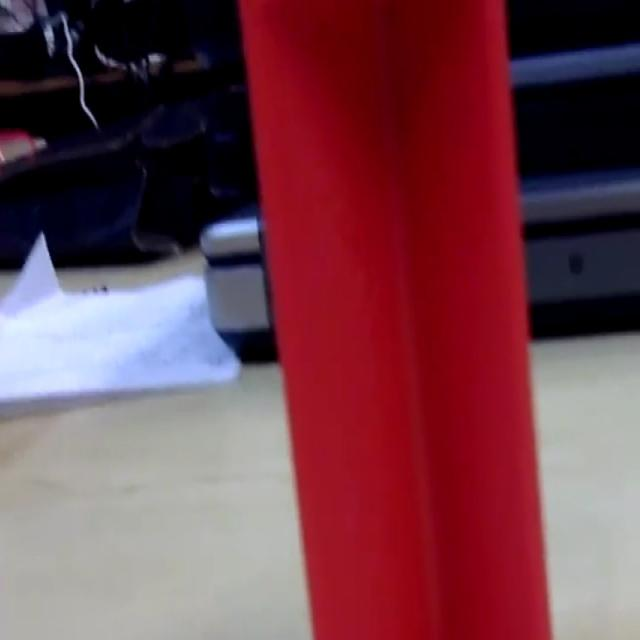red_block: (237, 0, 555, 636)
